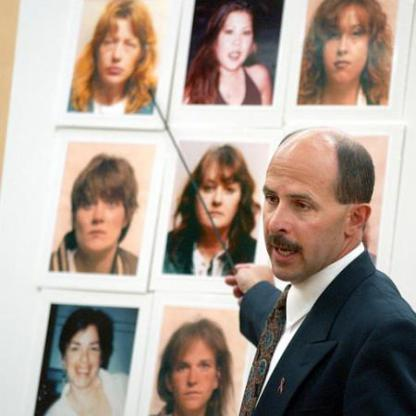face: (255, 130, 353, 286), (75, 159, 127, 254), (323, 1, 371, 87), (172, 324, 218, 410), (199, 150, 242, 231), (101, 2, 141, 86), (216, 1, 256, 72), (68, 314, 103, 391)
